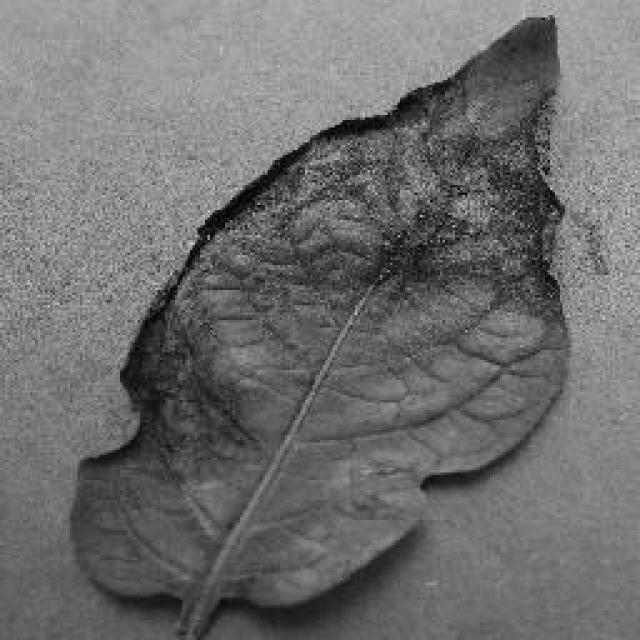Potato: (65, 12, 575, 638)
